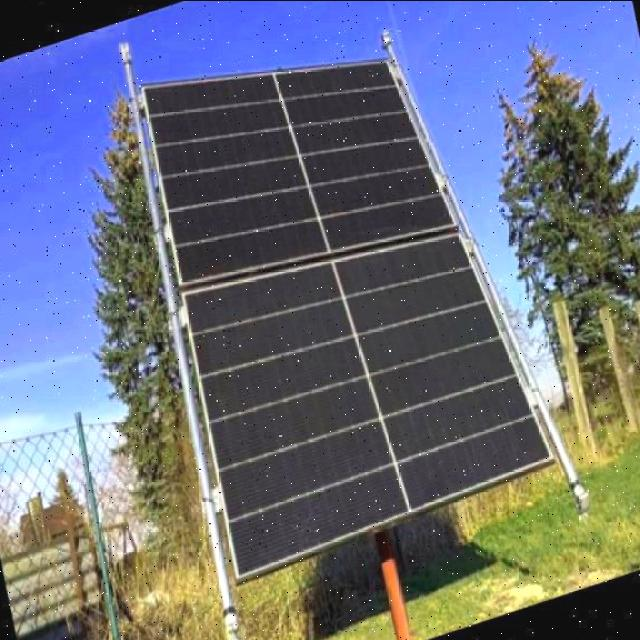Normal Solar Panel: (110, 0, 594, 581)
